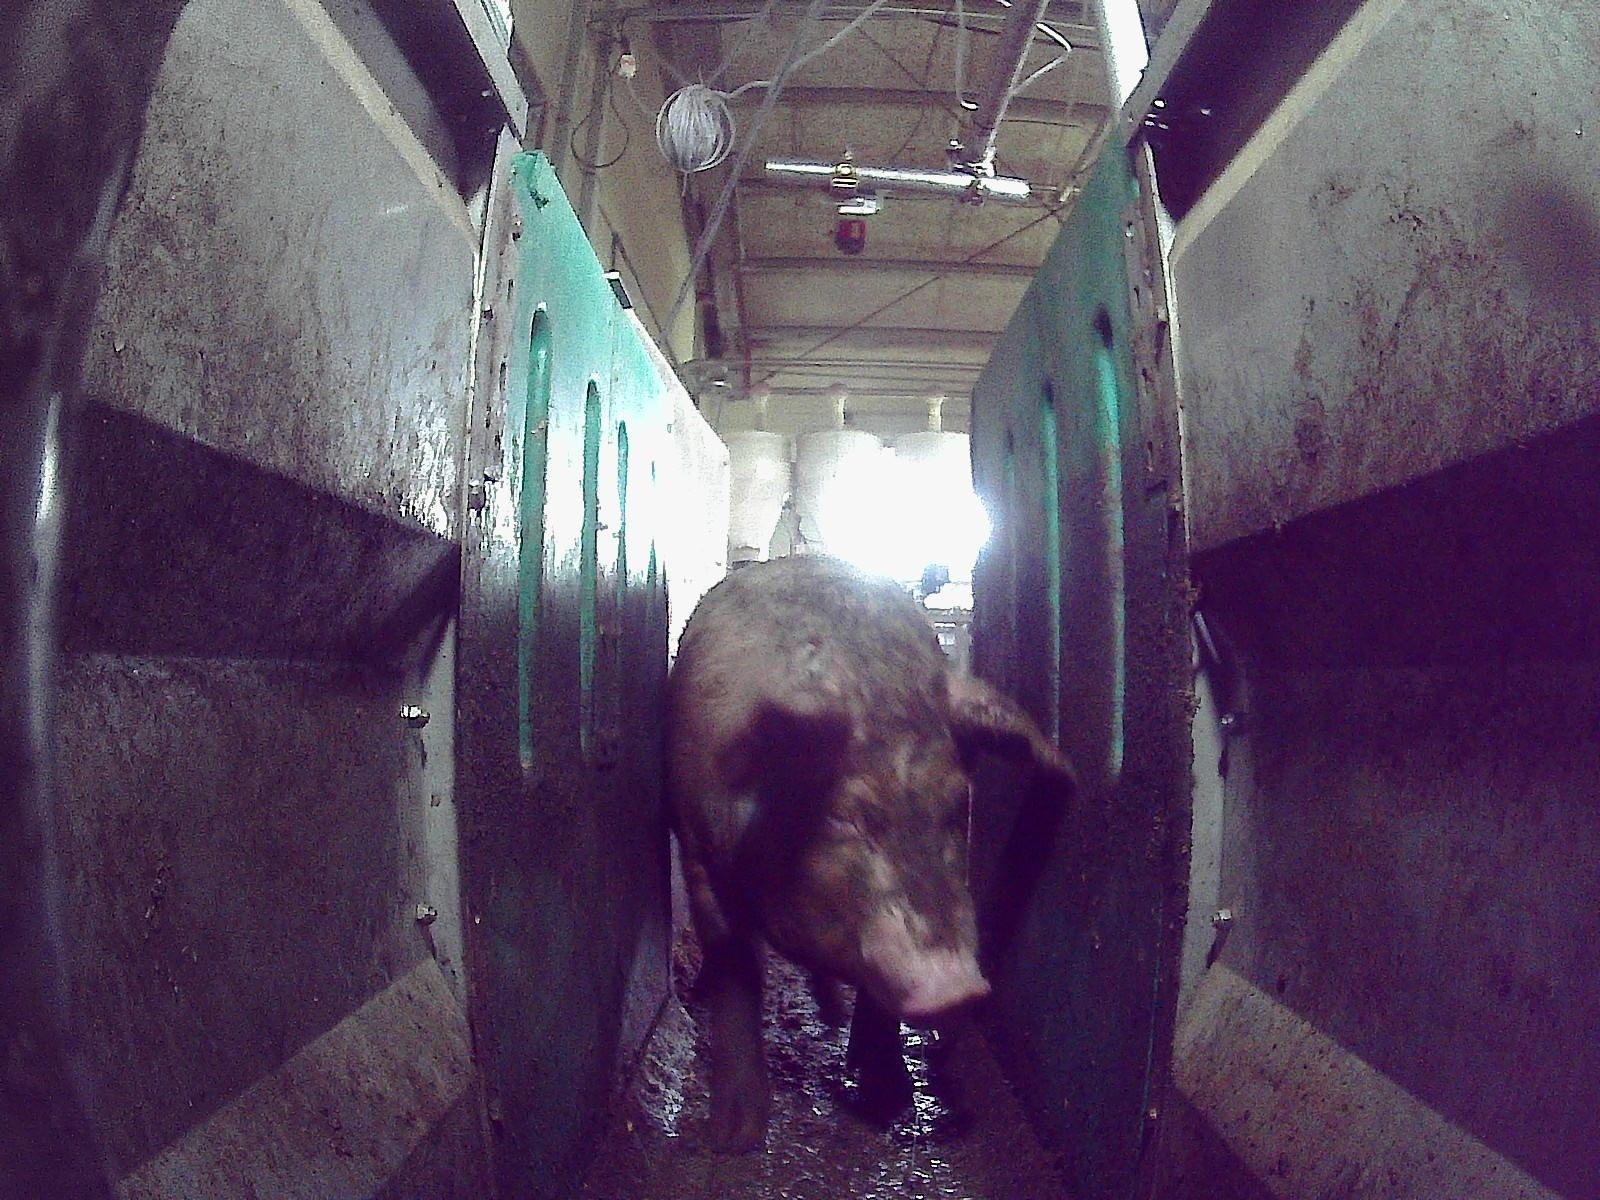Face: (737, 671, 994, 1029)
